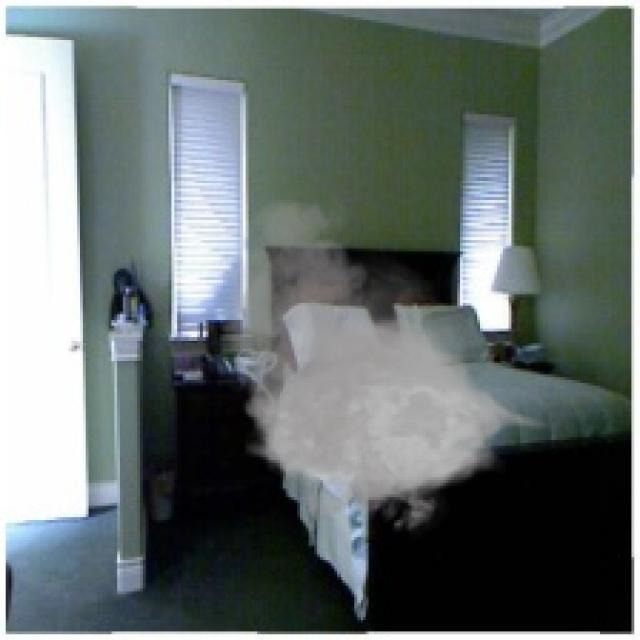Smoke: (208, 194, 554, 543)
